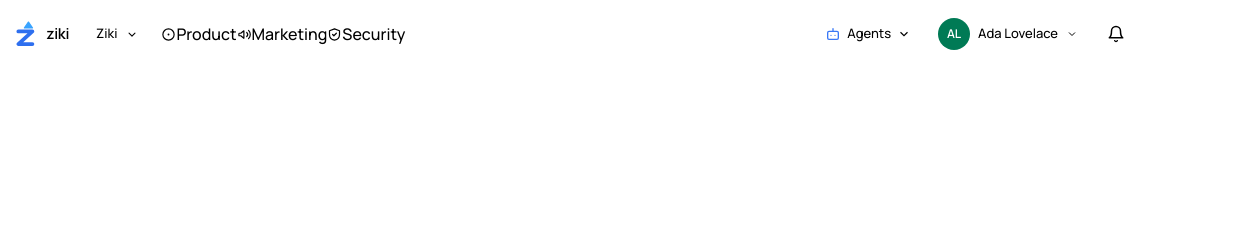
it: notification preview (#615) › ignores an obsolete request after closing and reopening
The width and height of the screenshot is (1257, 234).
Click the button named "Notifications" at (1116, 34), box [1098, 16, 1134, 52]
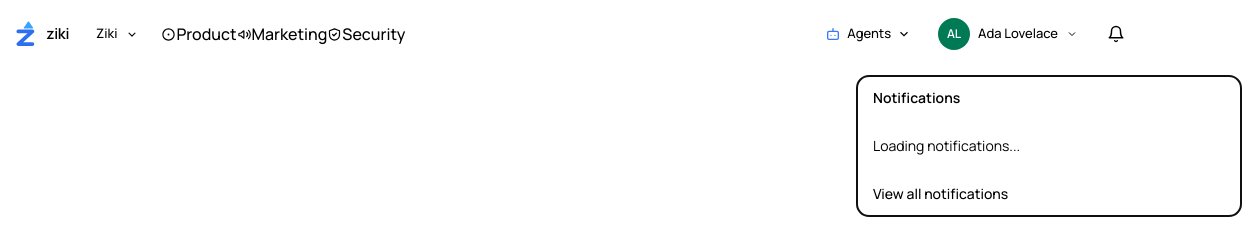
Click the button named "Notifications" at (1116, 34), box [1098, 16, 1134, 52]
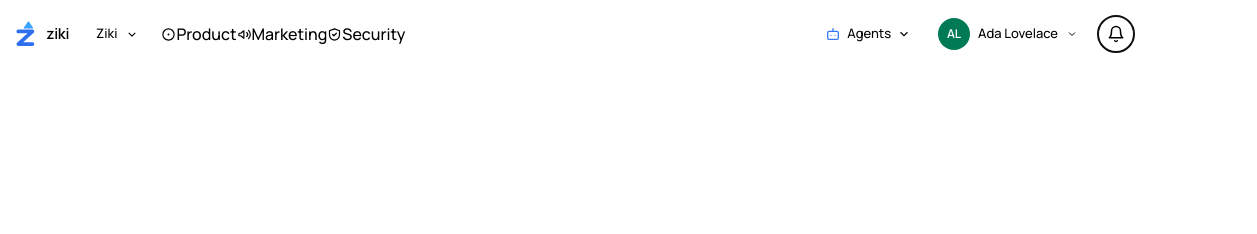
Click the button named "Notifications" at (1116, 34), box [1098, 16, 1134, 52]
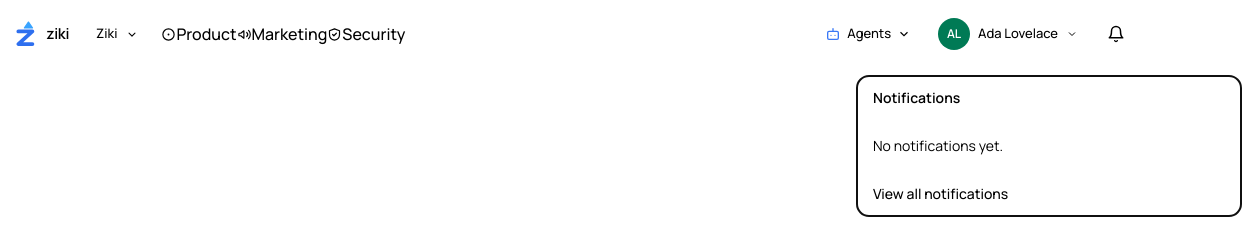
Expected: the text "No notifications yet." is shown, [873, 136, 1003, 155]
